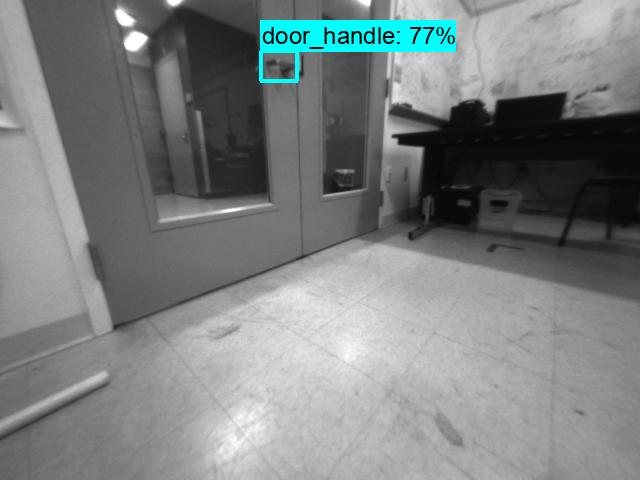door_handle: (262, 51, 297, 82)
